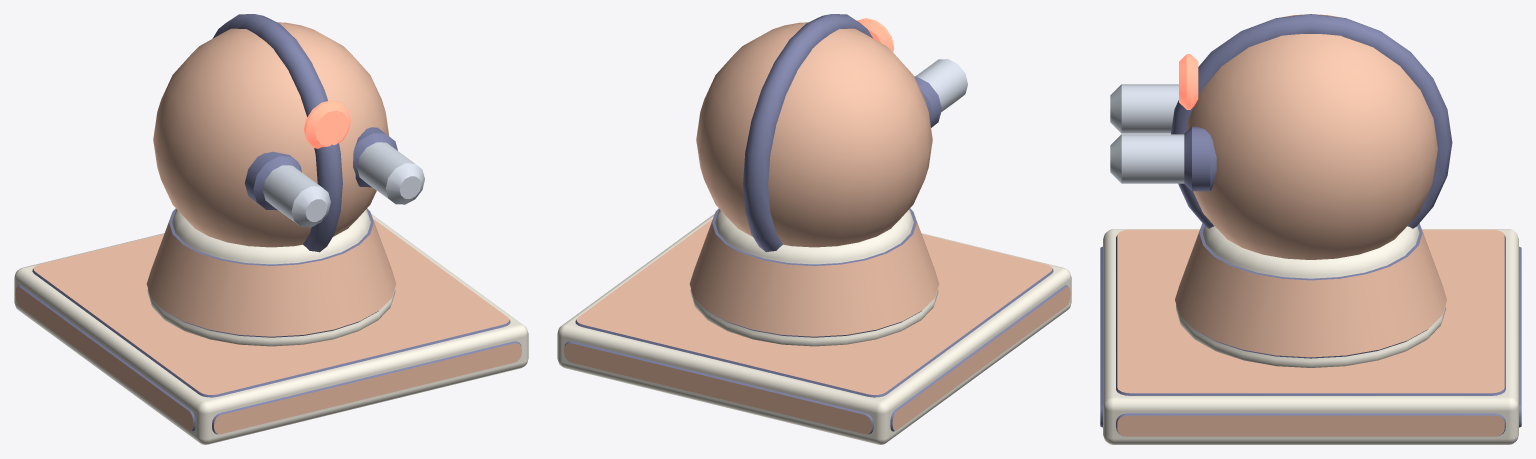
File: R4X_PointDefense.fbx
3 views of the same model, side by side, from view 1: azimuth 30°, elevation 25°; view 2: azimuth 150°, elevation 25°; view 3: azimuth 270°, elevation 25° (orthographic). The views are drawn at different scales.
Parts seen in each view (by area): view 1: R4X_PointDefense_Body, R4X_PointDefense_Turret; view 2: R4X_PointDefense_Body, R4X_PointDefense_Turret; view 3: R4X_PointDefense_Body, R4X_PointDefense_Turret.
Boxes of the visible parts, x1,y1,x2,y2 form: R4X_PointDefense_Body: (14, 208, 528, 444); R4X_PointDefense_Turret: (153, 14, 424, 252); R4X_PointDefense_Body: (557, 208, 1071, 444); R4X_PointDefense_Turret: (696, 14, 967, 252); R4X_PointDefense_Body: (1100, 223, 1521, 444); R4X_PointDefense_Turret: (1110, 14, 1452, 259).
Bounding box in the file's own units: 0.52 × 0.4746 × 0.52.
